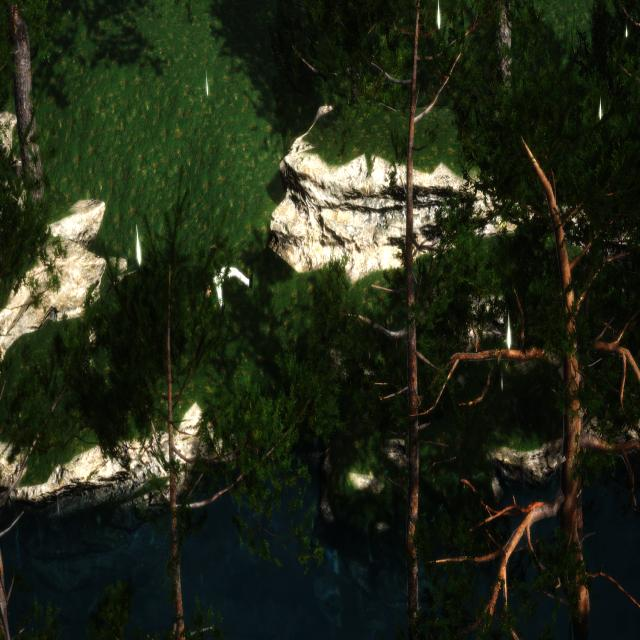Human: (207, 241, 261, 317)
